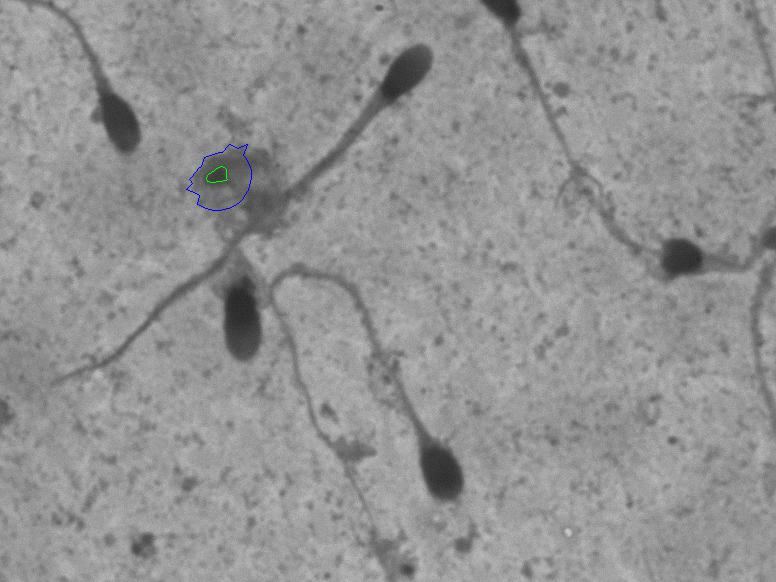Abnormal: (287, 257, 498, 530), (273, 5, 463, 212), (35, 18, 171, 154)
